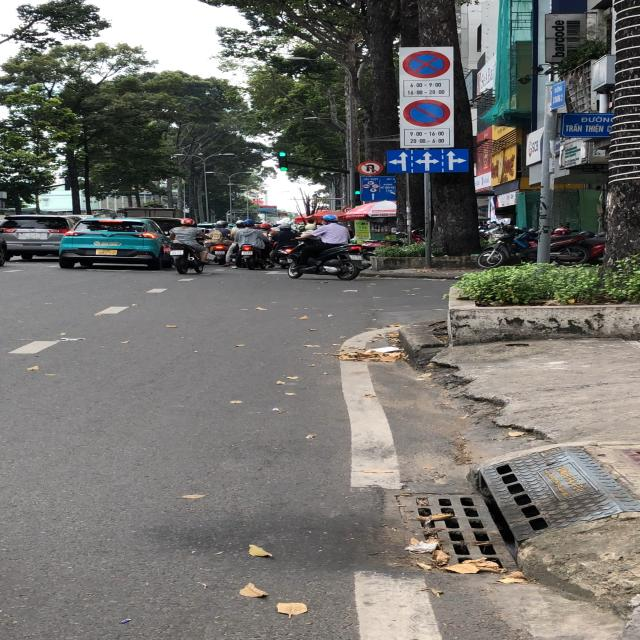Bien bao cam do xe: (403, 98, 453, 128)
Bien bao cam dung xe va do xe: (401, 50, 452, 79)
Bien bao cam quay dau xe: (356, 159, 384, 176)
